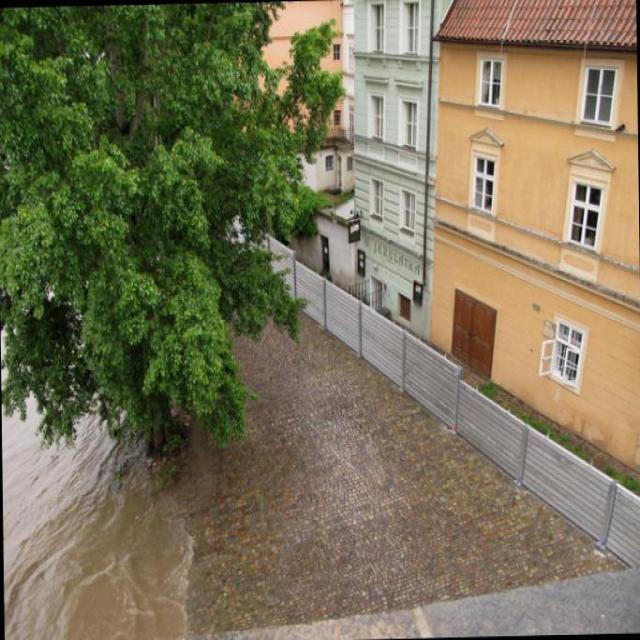flood: (0, 374, 180, 639)
